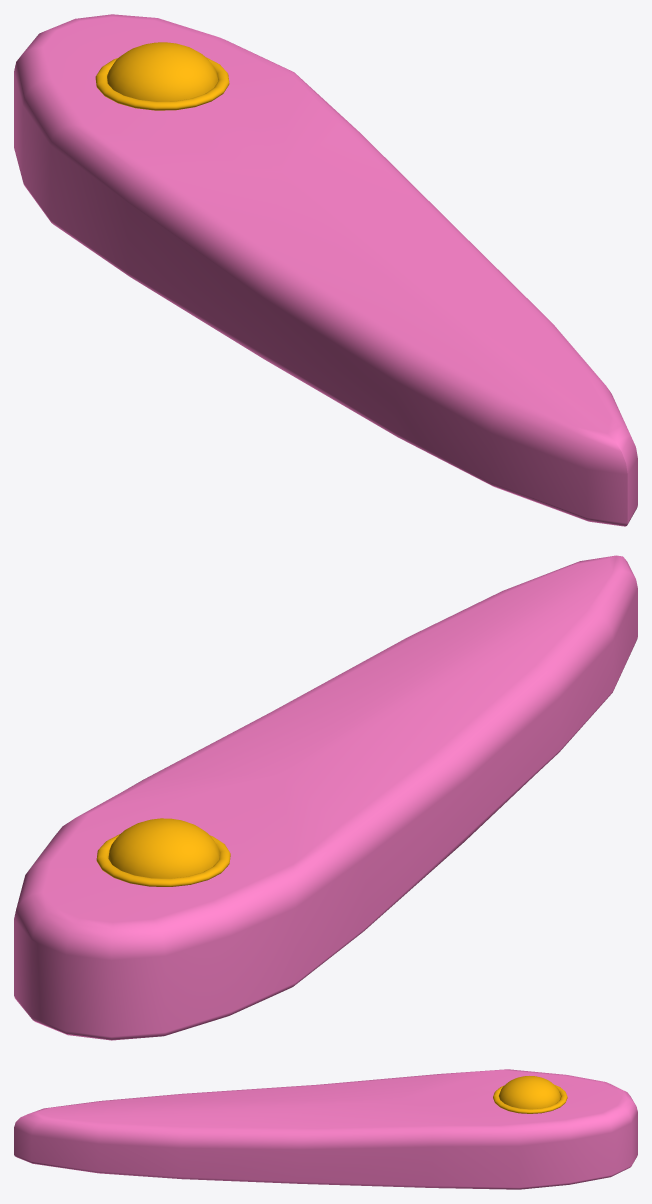
Rendered from flap_pink.fbx.
The picture shows the model from 3 angles, top to bottom: view 1: azimuth 30°, elevation 25°; view 2: azimuth 150°, elevation 25°; view 3: azimuth 270°, elevation 25°; orthographic projection. The views are drawn at different scales.
Parts seen in each view (by area): view 1: pTorus3; view 2: pTorus3; view 3: pTorus3.
Part boxes in pixels (box(x1,y1,x2,y2)): pTorus3: box(14, 14, 637, 526); pTorus3: box(14, 555, 637, 1040); pTorus3: box(14, 1069, 637, 1189).
Bounding box in the file's own units: 3.66 × 2 × 14.57.
Materials: 2 (2 with a texture image).
